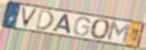A: (51, 13, 72, 35)
D: (34, 8, 55, 31)
G: (72, 16, 92, 37)
M: (106, 20, 132, 45)
O: (90, 18, 112, 42)
V: (20, 6, 39, 29)
